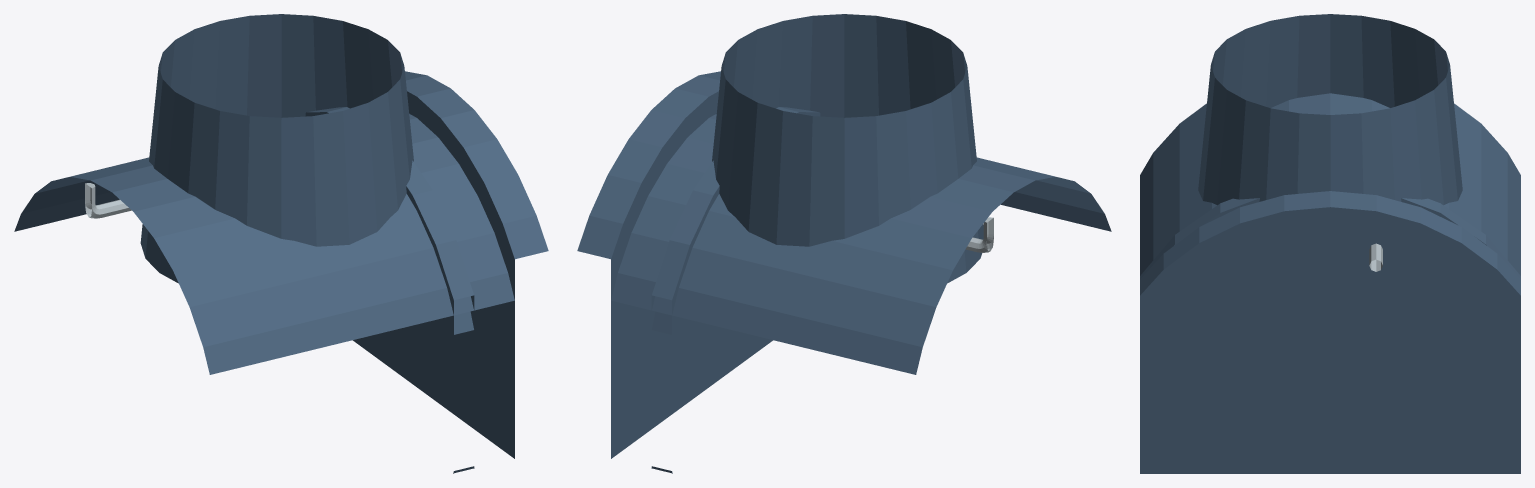
The model's file is cell_39.obj.
3 renders of one model, left to right at view 1: azimuth 30°, elevation 25°; view 2: azimuth 150°, elevation 25°; view 3: azimuth 270°, elevation 25°, orthographic. The views are drawn at different scales.
Bounding box in the file's own units: 1 × 1 × 1.
